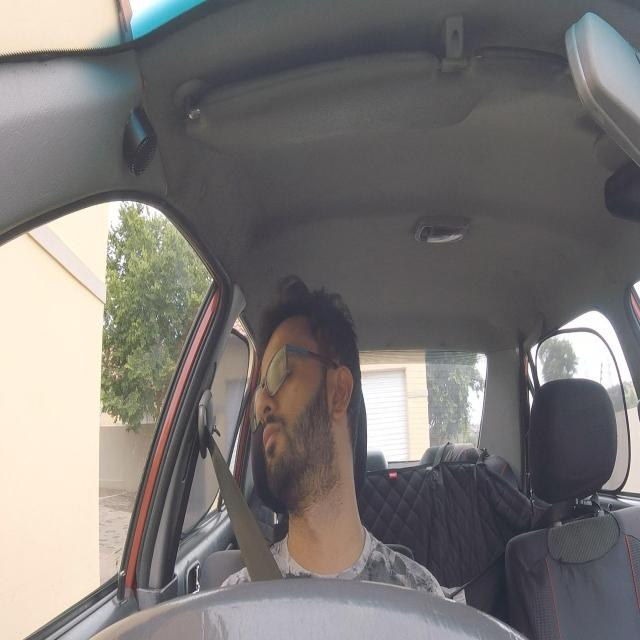close: (269, 344, 298, 394)
